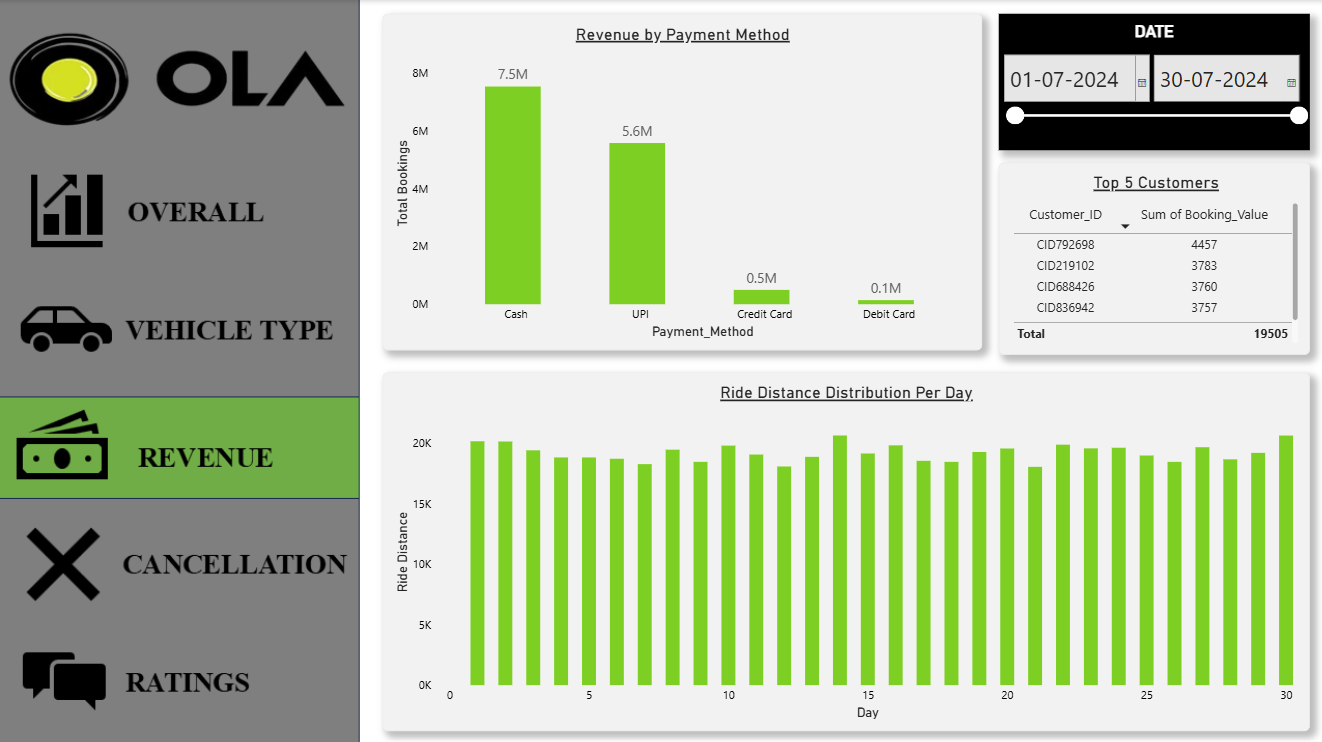

What the dashboard file says about the page in this screenshot:
{"tool":"powerbi","page":{"name":"revenue","canvas":[1920,1080],"ordinal":2},"visuals":[{"type":"actionButton","box":[0,407.2,519.4,148.4],"z":0},{"type":"actionButton","box":[0,738.3,519.4,150.2],"z":1000},{"type":"actionButton","box":[0,910.3,519.4,146.6],"z":2000},{"type":"actionButton","box":[0,213.5,519.4,161.1],"z":3000},{"type":"columnChart","title":"Revenue by Payment Method","fields":{"Category":["Bookings-40000-Rows-July.Payment_Method"],"Y":["Sum(Bookings-40000-Rows-July.Booking_Value)"]},"box":[554,19.5,867.8,486.9],"z":4000},{"type":"columnChart","title":"Ride Distance Distribution Per Day","fields":{"Category":["Bookings-40000-Rows-July.Date.Variation.Date Hierarchy.Day"],"Y":["Sum(Bookings-40000-Rows-July.Ride_Distance)"]},"box":[553.8,539.3,1342,519],"z":5000},{"type":"slicer","title":"DATE","fields":{"Values":["Bookings-40000-Rows-July.Date"]},"box":[1445.9,19.9,450.6,197.3],"z":6000},{"type":"tableEx","title":"Top 5 Customers","fields":{"Values":["Bookings-40000-Rows-July.Customer_ID","Sum(Bookings-40000-Rows-July.Booking_Value)"]},"box":[1445.9,235.3,450.6,278.7],"z":7000}]}

Visuals, with their boxes in screenshot pixels (x1, y1, x2, y2), scaled from the page's 1920x1080 canvas onto the 1322x742 screenshot:
actionButton: [x1=0, y1=280, x2=358, y2=382]
actionButton: [x1=0, y1=507, x2=358, y2=610]
actionButton: [x1=0, y1=625, x2=358, y2=726]
actionButton: [x1=0, y1=147, x2=358, y2=257]
"Revenue by Payment Method" columnChart: [x1=381, y1=13, x2=979, y2=348]
"Ride Distance Distribution Per Day" columnChart: [x1=381, y1=371, x2=1305, y2=727]
"DATE" slicer: [x1=996, y1=14, x2=1306, y2=149]
"Top 5 Customers" tableEx: [x1=996, y1=162, x2=1306, y2=353]
